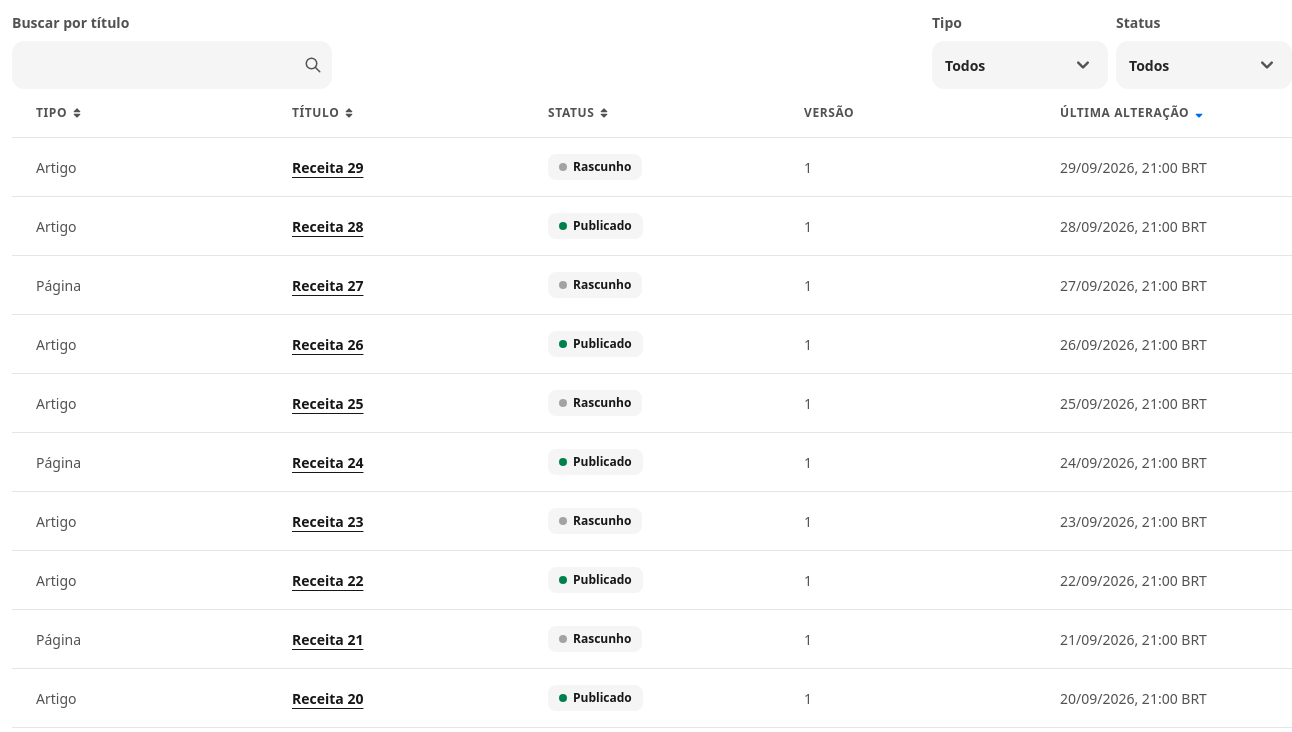
it: busca, filtros, ordem e paginação (#107) › clicar num cabeçalho ordenável inverte a ordem, com aria-sort no sentido
What coordinates should you click on to do the following:
click the button "Título"
I would click on:
 (324, 113)
Its box is [292, 101, 355, 125].
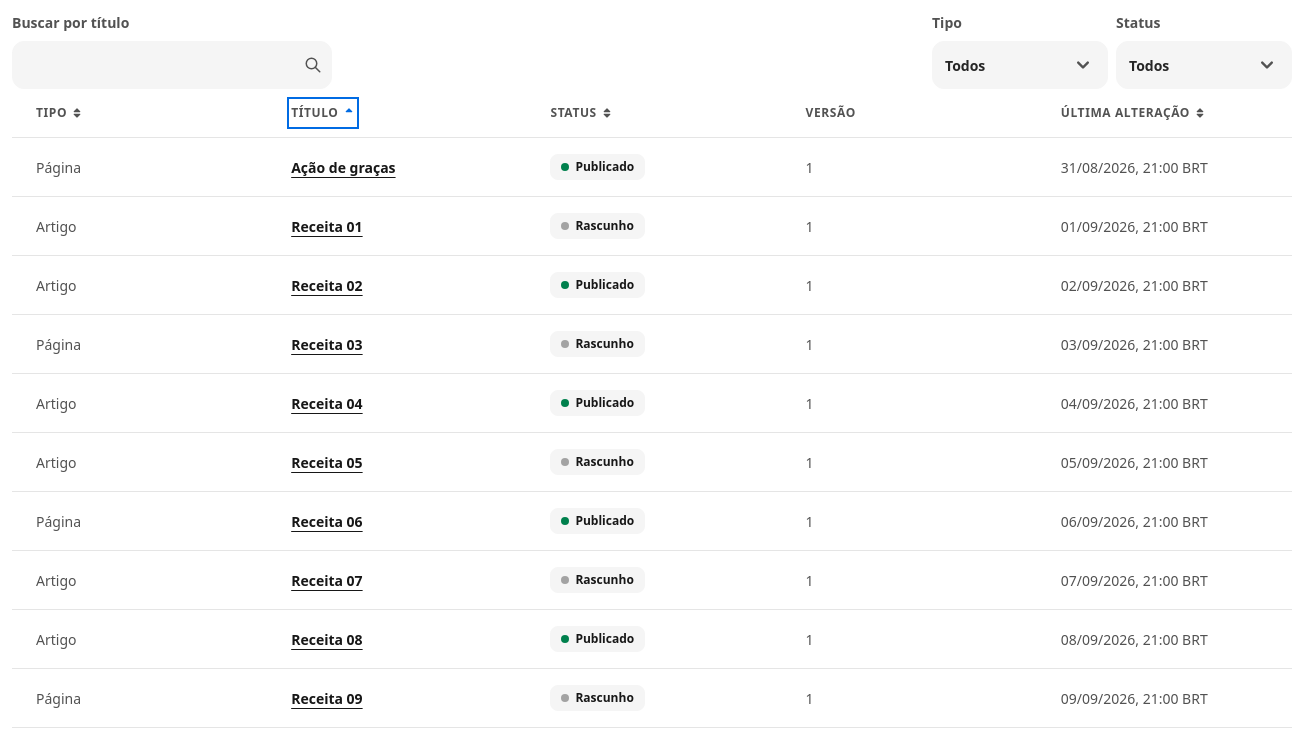
Now the text "Ação de graças" is shown, box [291, 158, 396, 176]
What coordinates should you click on to do the following:
click the button "Título"
I would click on:
 (323, 113)
Its box is [291, 101, 354, 125].
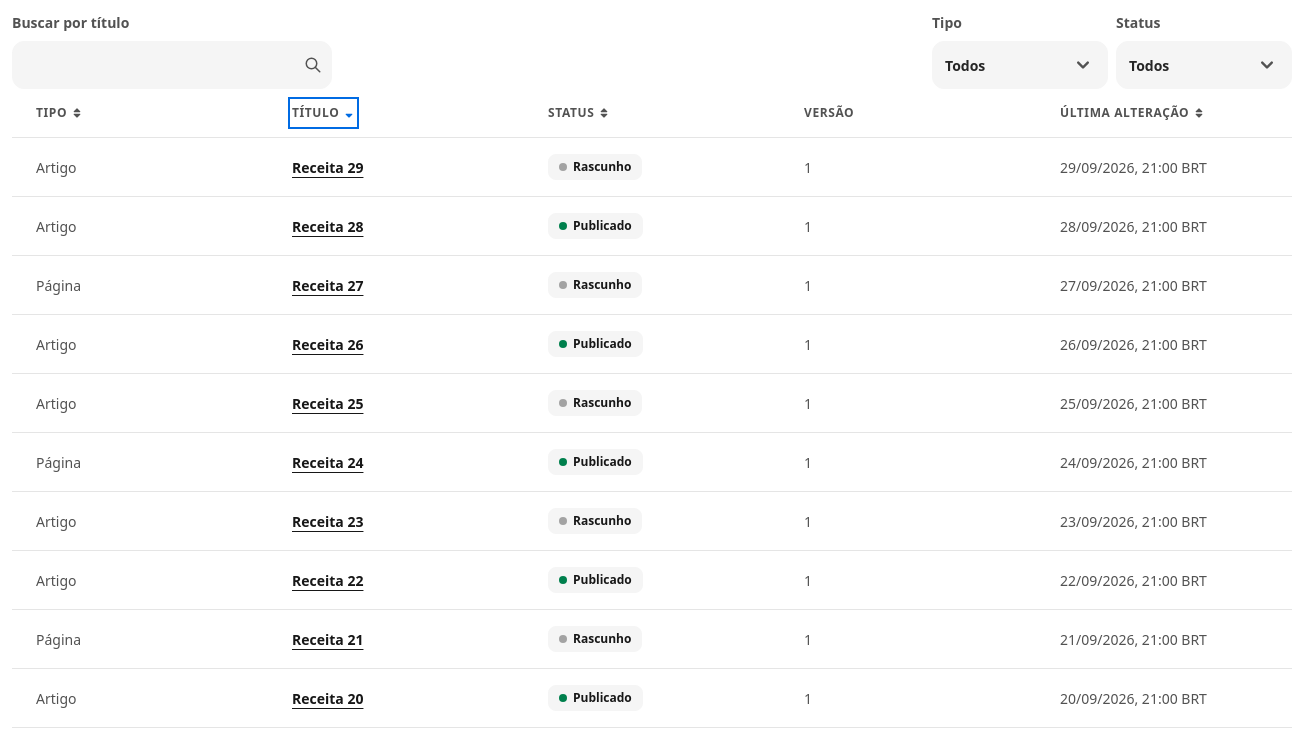
Now the text "Receita 29" is shown, box [292, 158, 364, 176]
